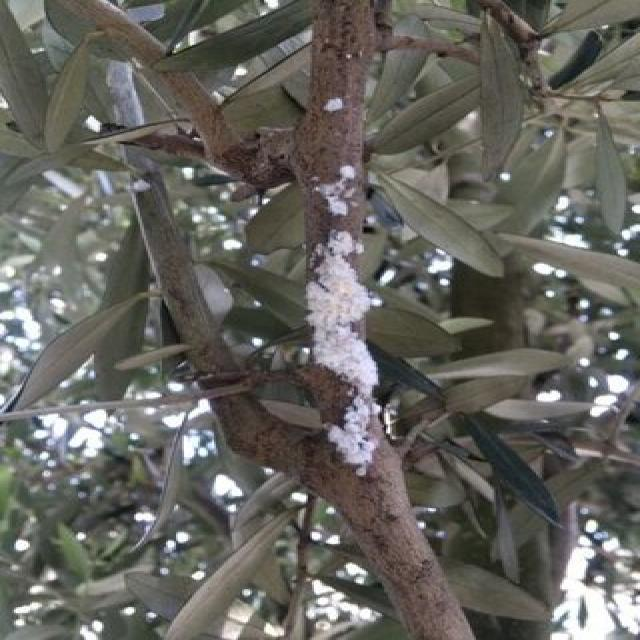Psyllid: (306, 229, 408, 517), (312, 167, 364, 214), (325, 90, 343, 112)
